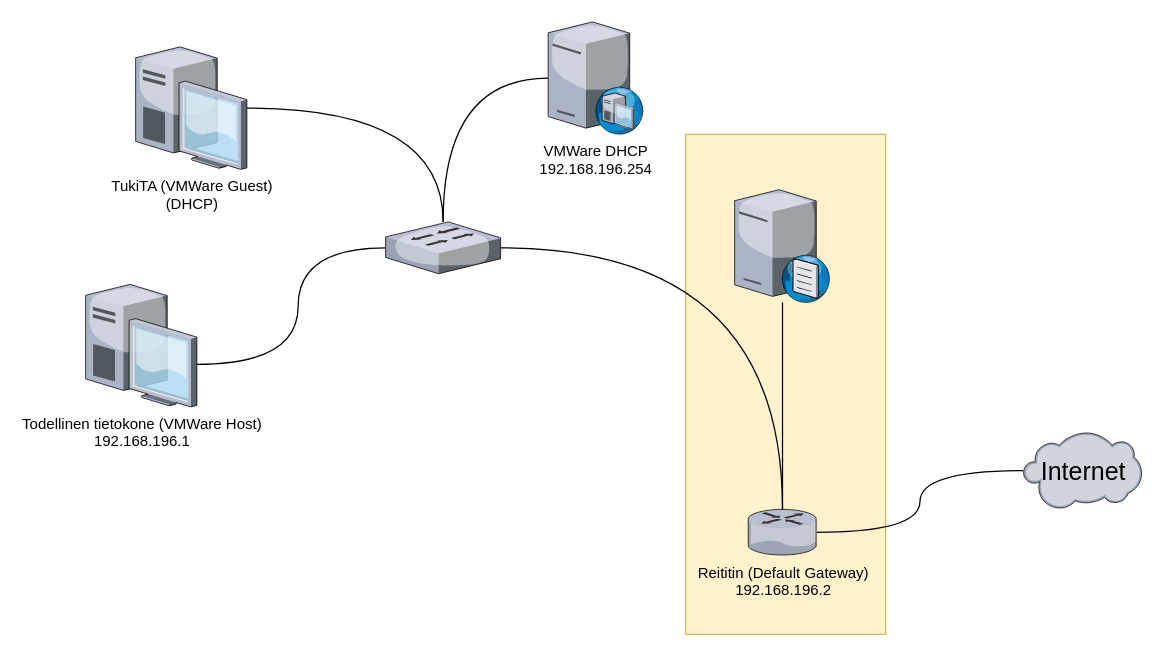
Image size: 1164x656. Some labels were removed from this diagram. The box of each missing label's shape, as (x1, y1, x2, y2) in pixels:
VMWare DNS 192.168.196.2: (734, 186, 830, 302)
VMWare NAT 192.168.196.0/24: (385, 221, 500, 273)
